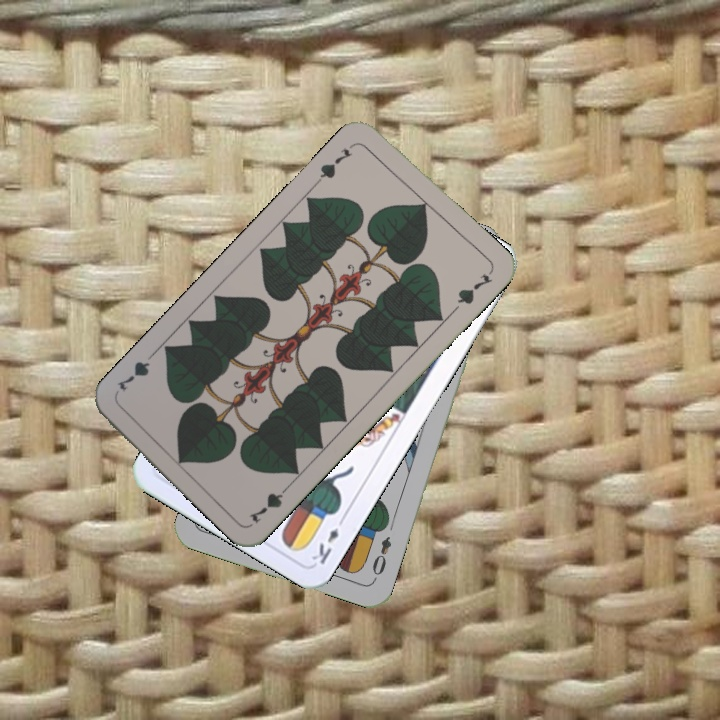EK: (307, 512, 348, 567)
EO: (368, 532, 394, 583)
G7: (244, 479, 294, 526), (312, 144, 355, 186)
